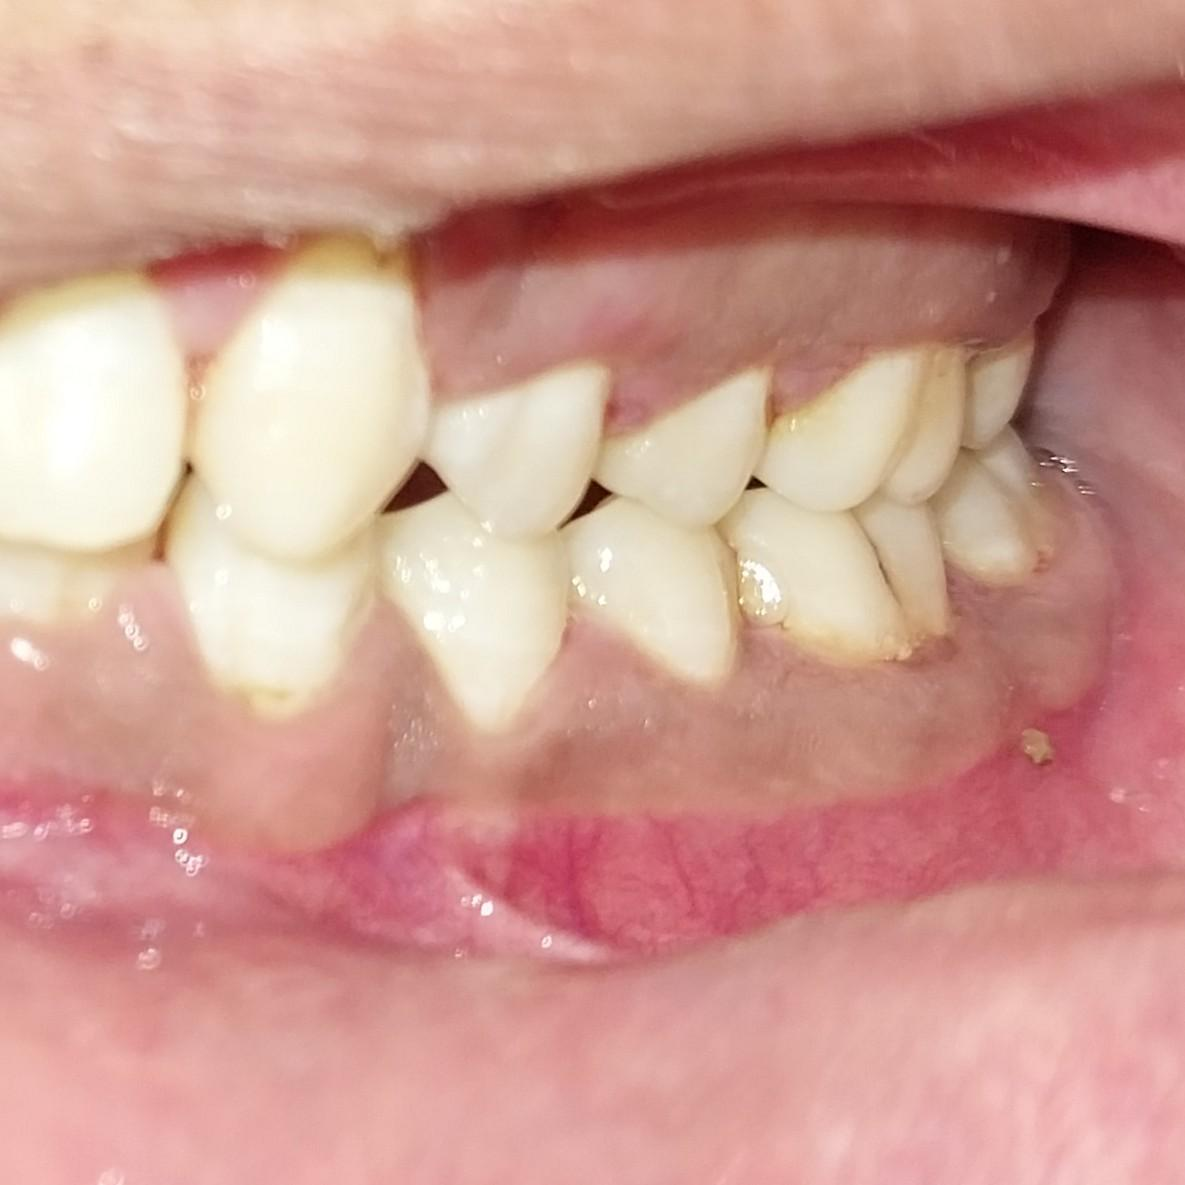D: (714, 490, 976, 670)
